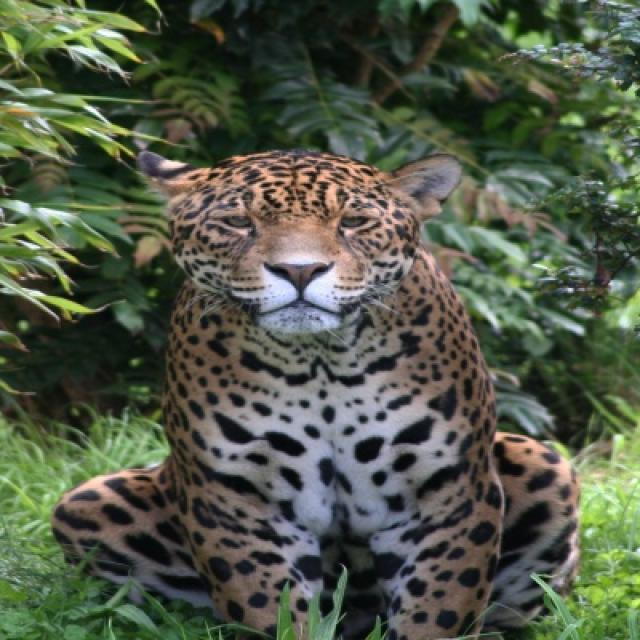Jaguar: (48, 150, 581, 638)
